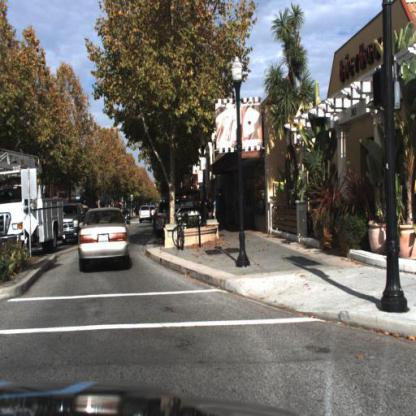car: (74, 204, 135, 275), (73, 203, 131, 273), (166, 196, 203, 239), (63, 195, 85, 245), (61, 202, 83, 243), (138, 204, 154, 230), (139, 202, 153, 227)
pedestrian: (214, 192, 223, 233), (221, 194, 230, 231)
truck: (1, 154, 65, 253)
